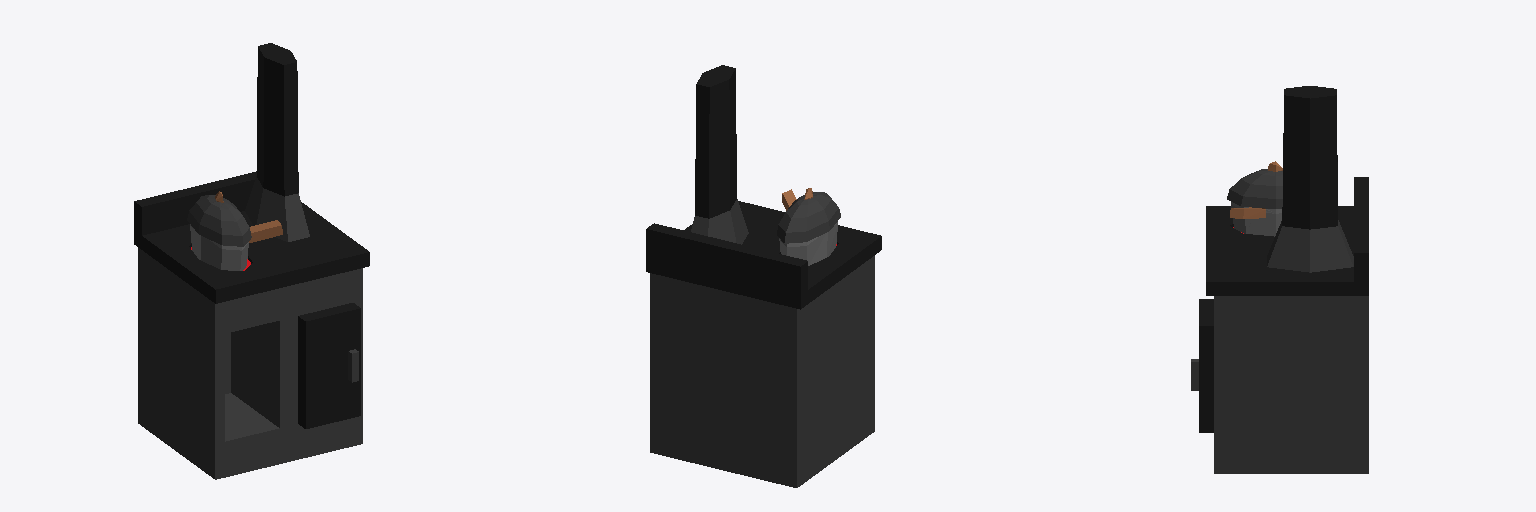
Rendered from stove1.obj.
3 renders of one model, left to right at view 1: azimuth 30°, elevation 25°; view 2: azimuth 150°, elevation 25°; view 3: azimuth 270°, elevation 25°, orthographic.
Parts seen in each view (by area): view 1: Object.3, Object.2, Object.4; view 2: Object.3, Object.2, Object.4; view 3: Object.3, Object.2, Object.4.
Part boxes in pixels (left/top/right/bottom): Object.3: left=134, top=171, right=369, bottom=479; Object.2: left=257, top=43, right=298, bottom=196; Object.4: left=187, top=191, right=282, bottom=270; Object.3: left=646, top=199, right=881, bottom=487; Object.2: left=695, top=65, right=736, bottom=218; Object.4: left=777, top=188, right=840, bottom=265; Object.3: left=1191, top=177, right=1368, bottom=473; Object.2: left=1282, top=86, right=1337, bottom=229; Object.4: left=1227, top=161, right=1282, bottom=236.
Size of the model in its own units: 0.9999 by 2.25 by 0.9999.